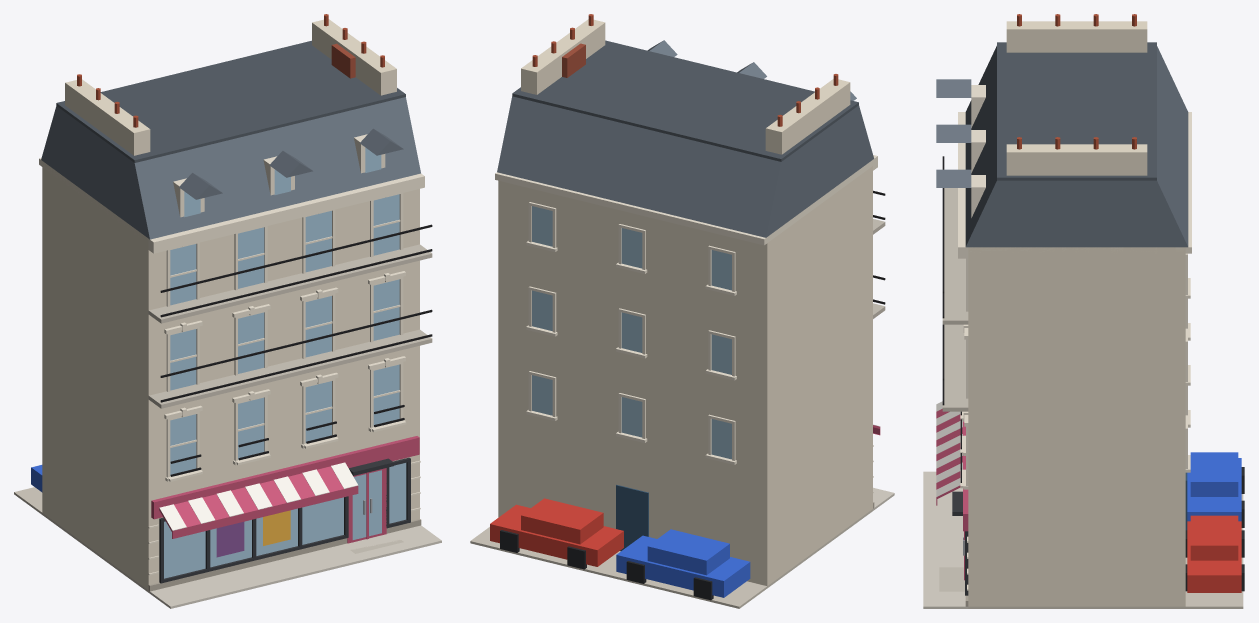
Rendered from Blok_duz_4k_1_Hafif.fbx.
The picture shows the model from 3 angles, left to right: view 1: azimuth 30°, elevation 25°; view 2: azimuth 150°, elevation 25°; view 3: azimuth 270°, elevation 25°; orthographic projection. The views are drawn at different scales.
Parts seen in each view (by area): view 1: Blok_duz_4k_1_Hafif; view 2: Blok_duz_4k_1_Hafif; view 3: Blok_duz_4k_1_Hafif.
Boxes of the visible parts, box(x1,y1,x2,y2) form: Blok_duz_4k_1_Hafif: box(14, 14, 441, 608); Blok_duz_4k_1_Hafif: box(470, 14, 894, 608); Blok_duz_4k_1_Hafif: box(923, 14, 1244, 608).
Size of the model in its own units: 10 by 16.07 by 10.04.
